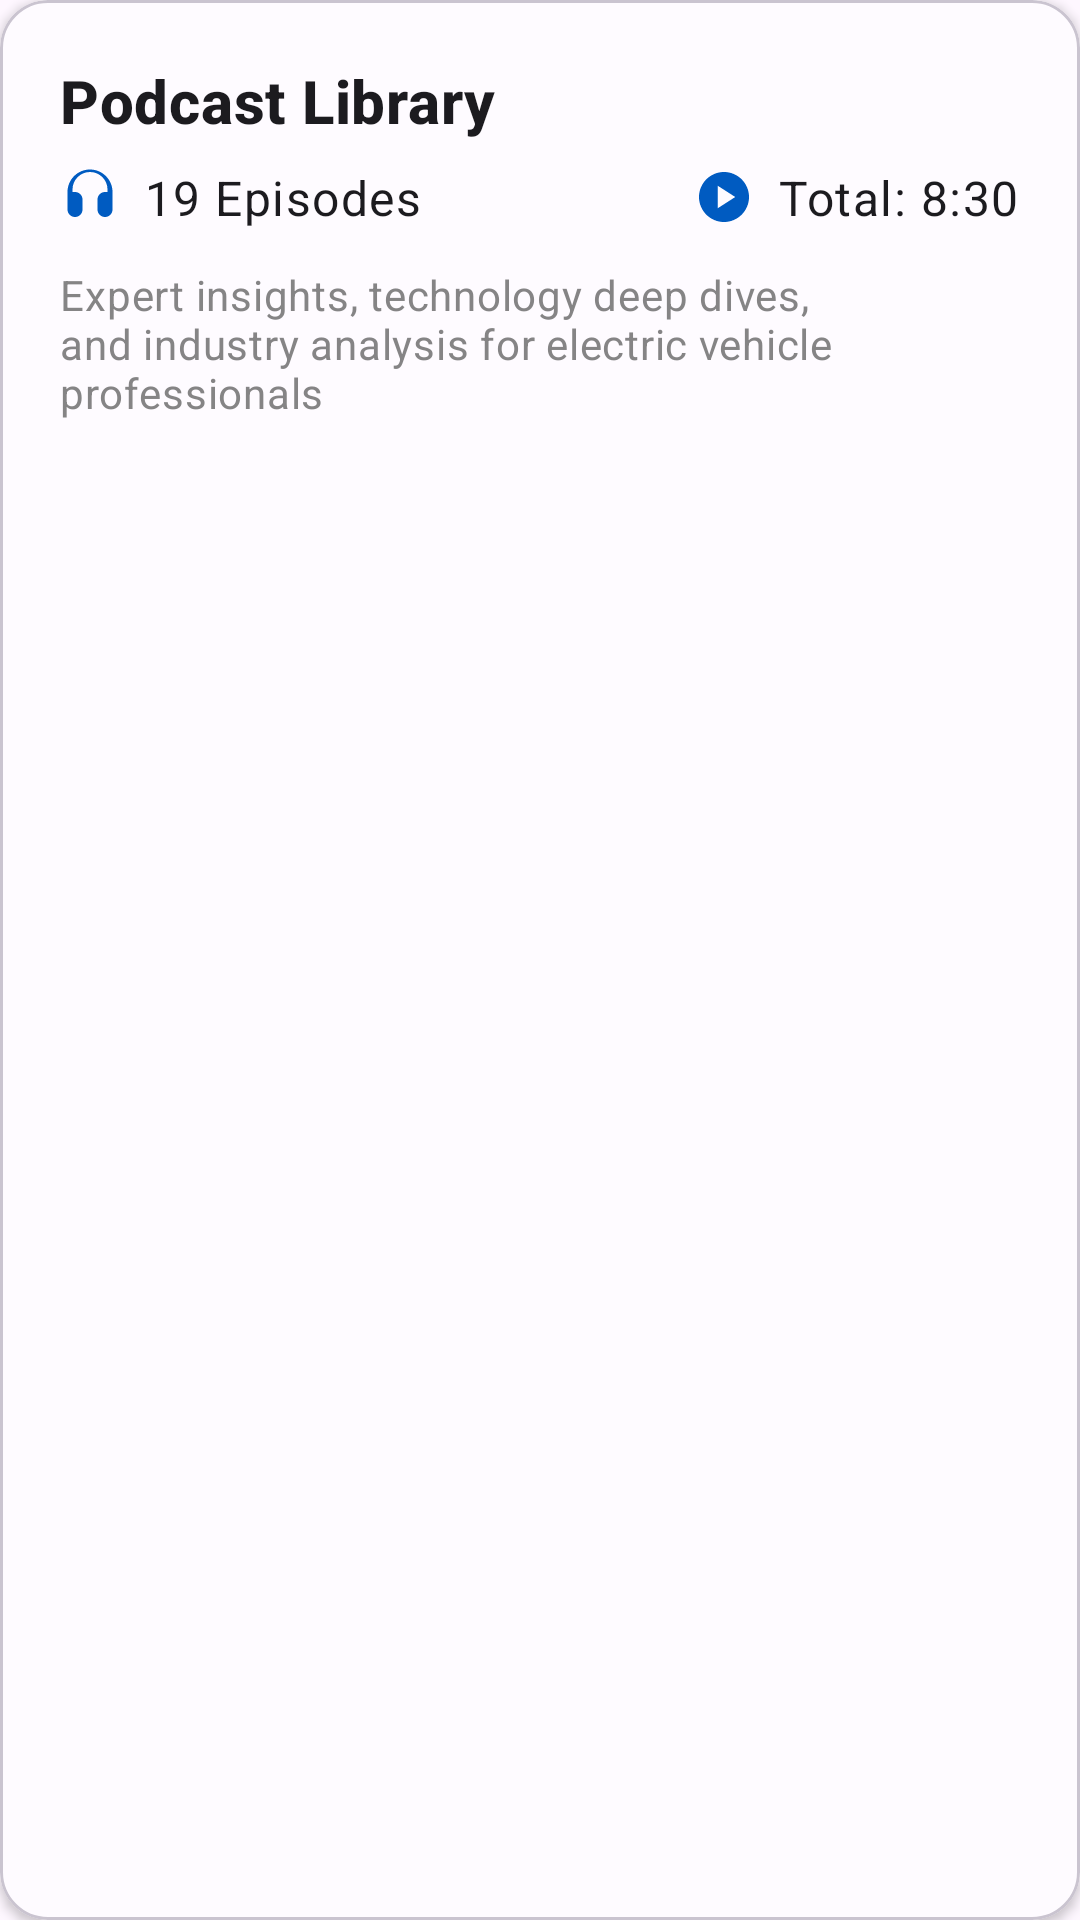

Icon click points for this 1080px x 1920px phone screenshot, format point (x, y):
headphones: point (90, 193)
play circle: point (724, 197)
